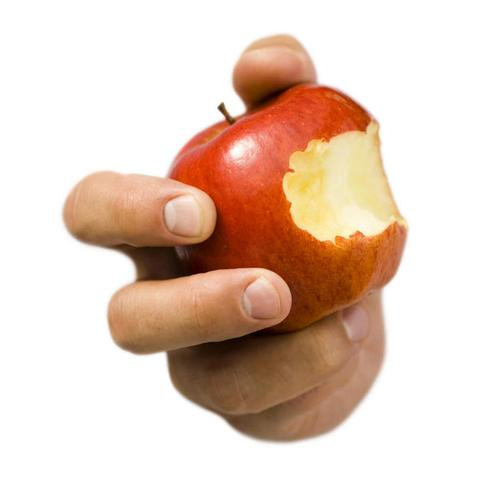no-phone: (54, 24, 412, 449)
